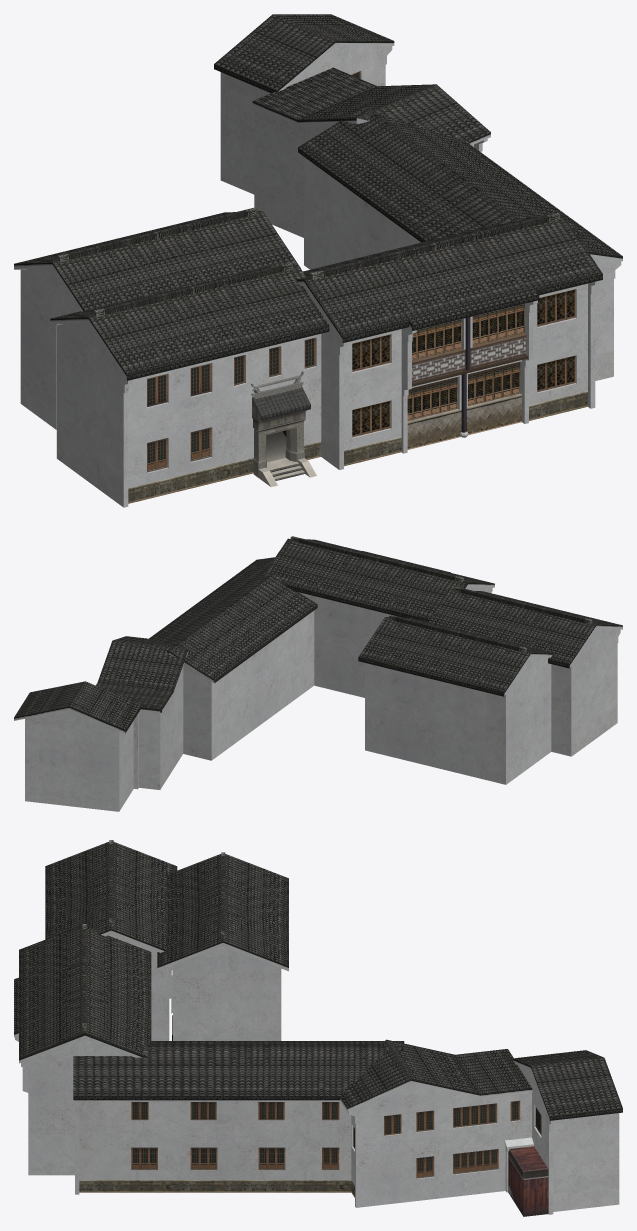
The model's file is Building_Shiyuan.FBX.
The picture shows the model from 3 angles, top to bottom: view 1: azimuth 30°, elevation 25°; view 2: azimuth 150°, elevation 25°; view 3: azimuth 270°, elevation 25°; orthographic projection. The views are drawn at different scales.
Parts seen in each view (by area): view 1: Building_Shiyuan; view 2: Building_Shiyuan; view 3: Building_Shiyuan.
Boxes of the visible parts, left/top/right/bottom form: Building_Shiyuan: left=14, top=14, right=622, bottom=507; Building_Shiyuan: left=14, top=536, right=622, bottom=811; Building_Shiyuan: left=14, top=840, right=622, bottom=1216.
Size of the model in its own units: 3191 by 931 by 3498.
